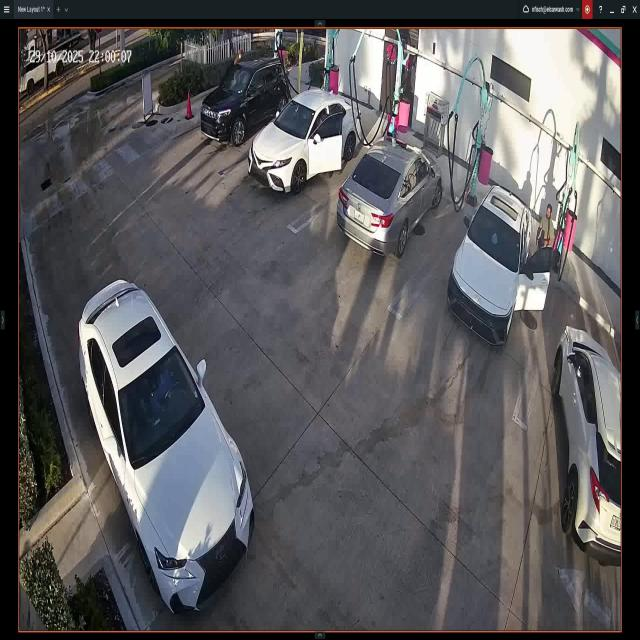Car: (78, 276, 256, 614), (448, 188, 551, 348), (557, 322, 624, 566), (338, 141, 443, 256), (252, 91, 360, 192), (201, 57, 291, 144)
